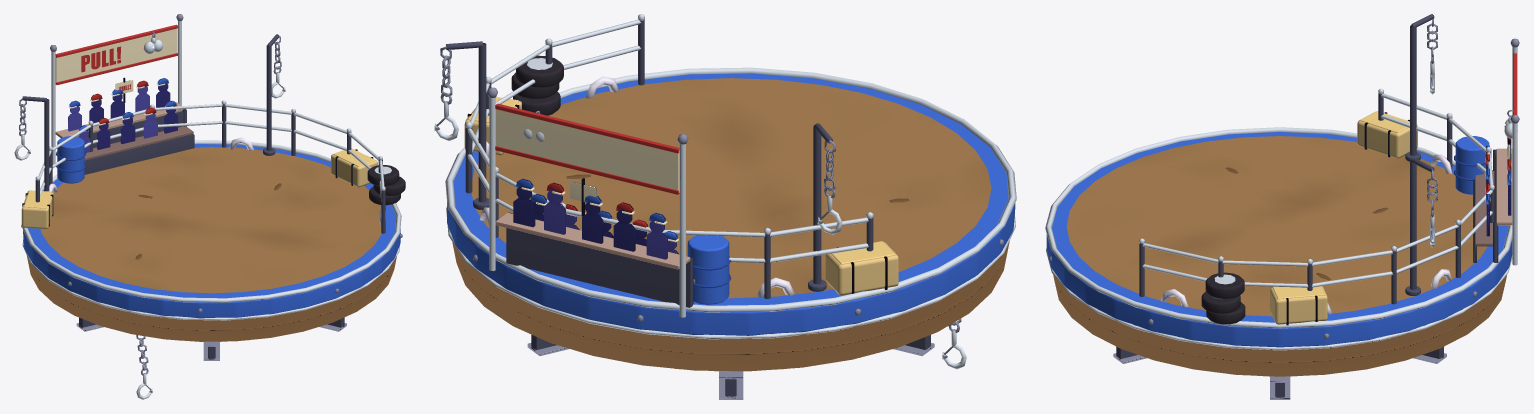
Rendered from arena_pull.glb.
3 views of the same model, side by side, from view 1: azimuth 30°, elevation 25°; view 2: azimuth 150°, elevation 25°; view 3: azimuth 270°, elevation 25° (orthographic). The views are drawn at different scales.
Visible parts, largest first — view 1: Dirt, Body, Banner, Stuff, Rail, Crowd, Grandstand, Hooks; view 2: Dirt, Body, Banner, Grandstand, Stuff, Rail, Crowd, Hooks; view 3: Dirt, Body, Stuff, Rail, Hooks, Grandstand, Banner, Crowd.
Boxes of the visible parts, x1,y1,x2,y2 form: Dirt: [40, 147, 381, 293]; Body: [21, 140, 402, 399]; Banner: [50, 14, 183, 164]; Stuff: [21, 136, 405, 228]; Rail: [35, 100, 385, 233]; Crowd: [68, 77, 177, 152]; Grandstand: [55, 102, 194, 174]; Hooks: [14, 34, 285, 191]; Dirt: [471, 78, 991, 298]; Body: [445, 67, 1016, 399]; Banner: [487, 87, 688, 317]; Grandstand: [495, 212, 695, 307]; Stuff: [464, 55, 898, 304]; Rail: [465, 14, 873, 298]; Crowd: [513, 178, 679, 259]; Hooks: [434, 41, 842, 291]; Dirt: [1066, 136, 1487, 316]; Body: [1045, 127, 1512, 399]; Stuff: [1201, 111, 1489, 325]; Rail: [1139, 88, 1494, 314]; Hooks: [1405, 14, 1437, 295]; Grandstand: [1473, 148, 1512, 262]; Banner: [1504, 38, 1519, 265]; Crowd: [1485, 137, 1511, 236].
Size of the model in its own units: 7.1 by 4.99 by 7.11.
